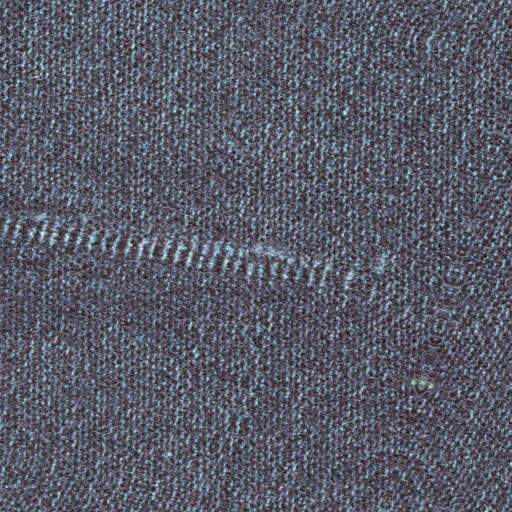slub: (0, 204, 349, 312)
